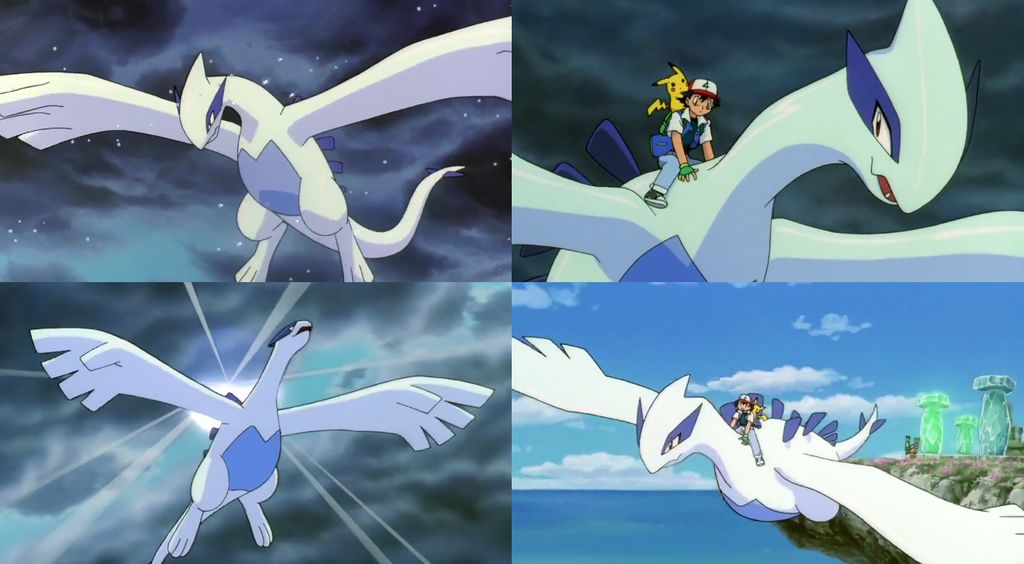lugia: (836, 2, 981, 215), (636, 373, 707, 473), (173, 50, 234, 151), (269, 319, 312, 354)
